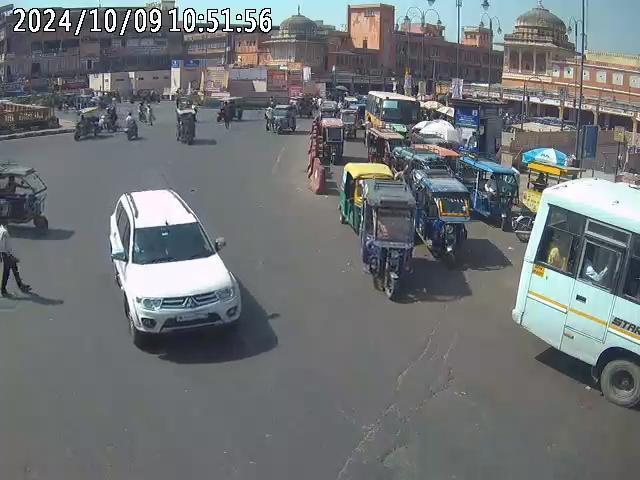auto: (359, 176, 416, 297), (412, 164, 470, 266), (461, 156, 520, 226), (338, 162, 396, 232), (515, 164, 571, 230), (0, 166, 48, 233), (307, 112, 346, 193)
bicycle: (137, 102, 156, 125)
bus: (514, 177, 640, 406), (366, 90, 420, 132)
car: (106, 186, 243, 349)
license_plate: (176, 308, 210, 322), (530, 262, 546, 276)
motorbike: (263, 103, 297, 135), (73, 109, 103, 141), (175, 106, 198, 145), (123, 110, 139, 140)
person: (0, 219, 23, 297), (580, 241, 612, 282), (546, 241, 563, 269), (103, 103, 118, 130)
